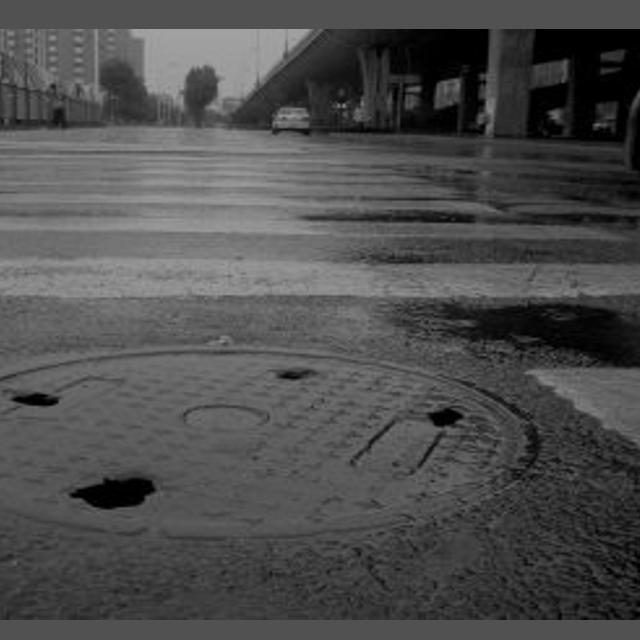broke: (0, 362, 549, 527)
